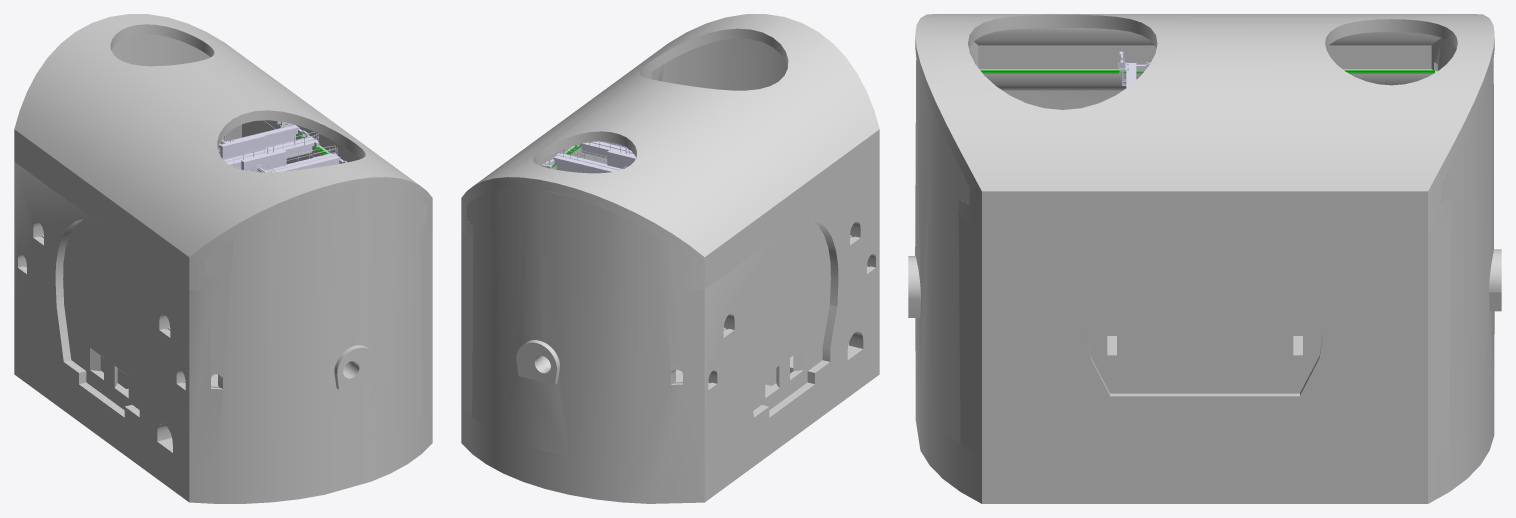
File: cavern_.glb
The picture shows the model from 3 angles, left to right: view 1: azimuth 30°, elevation 25°; view 2: azimuth 150°, elevation 25°; view 3: azimuth 270°, elevation 25°; orthographic projection. The views are drawn at different scales.
Visible parts, largest first — view 1: K0152153MQ, VOUTEUX1, Body.44; view 2: K0152153MQ, VOUTEUX1, Body.44; view 3: K0152153MQ, VOUTEUX1, Body.44.
Part boxes in pixels (bbox=[...]): K0152153MQ: bbox=[14, 34, 432, 503]; VOUTEUX1: bbox=[14, 14, 432, 290]; Body.44: bbox=[218, 121, 346, 172]; K0152153MQ: bbox=[461, 38, 879, 503]; VOUTEUX1: bbox=[461, 14, 879, 290]; Body.44: bbox=[540, 141, 635, 173]; K0152153MQ: bbox=[908, 38, 1501, 503]; VOUTEUX1: bbox=[915, 14, 1494, 232]; Body.44: bbox=[980, 51, 1434, 87].
Bounding box in the file's own units: 34 × 41.2 × 56.31.
